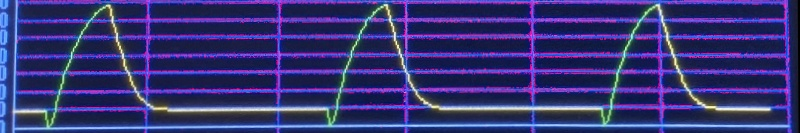leakage: (1, 0, 771, 133)
